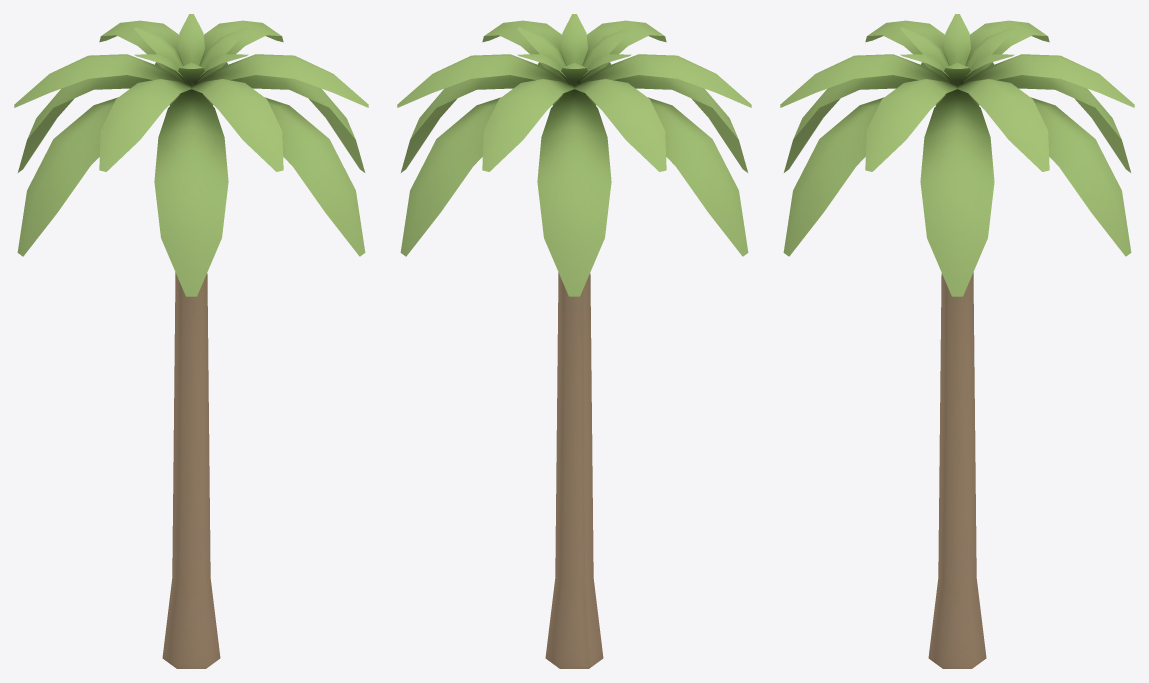
Rendered from palm_d.glb.
The picture shows the model from 3 angles, left to right: view 1: azimuth 30°, elevation 25°; view 2: azimuth 150°, elevation 25°; view 3: azimuth 270°, elevation 25°; orthographic projection.
Visible parts, largest first — view 1: Palm.001; view 2: Palm.001; view 3: Palm.001.
Part boxes in pixels (x1,y1,x2,y2): Palm.001: (14, 14, 368, 668); Palm.001: (397, 14, 751, 668); Palm.001: (780, 14, 1134, 668).
Bounding box in the file's own units: 11.62 × 20.01 × 10.42.
Materials: 1 (1 with a texture image).
